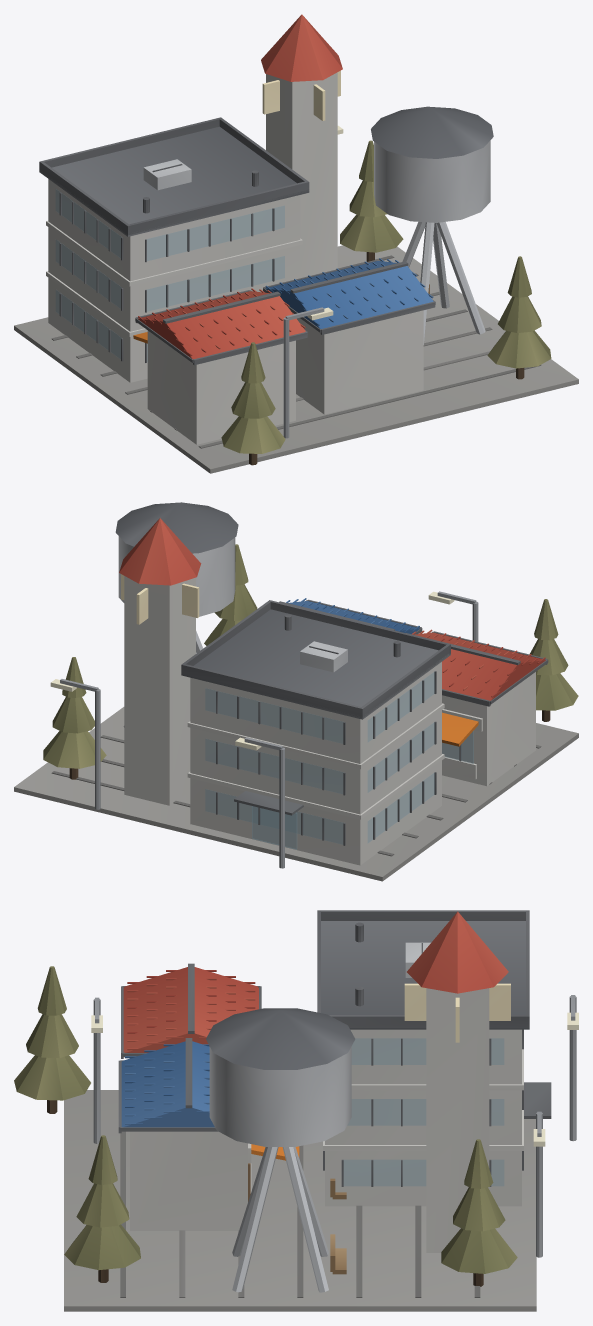
Rendered from Civic_P2.fbx.
3 renders of one model, top to bottom at view 1: azimuth 30°, elevation 25°; view 2: azimuth 150°, elevation 25°; view 3: azimuth 270°, elevation 25°, orthographic. The views are drawn at different scales.
Visible parts, largest first — view 1: Civic.Hall, Civic.Plaza, Civic.Shop1, Civic.Shop0, Civic.WaterTower, Civic.Tower, Civic.Tree2, Civic.Tree1, Civic.Tree0, Civic.Paving, Civic.Lamp0; view 2: Civic.Hall, Civic.Tower, Civic.Plaza, Civic.Shop0, Civic.WaterTower, Civic.Tree0, Civic.Tree2, Civic.Tree1, Civic.Shop1, Civic.Lamp1, Civic.Lamp2, Civic.Paving (+1 smaller); view 3: Civic.Plaza, Civic.Hall, Civic.WaterTower, Civic.Tower, Civic.Shop1, Civic.Shop0, Civic.Tree2, Civic.Tree0, Civic.Tree1, Civic.Paving, Civic.Lamp0, Civic.Lamp2 (+2 smaller).
Boxes of the visible parts, left/top/right/bottom form: Civic.Hall: left=39, top=117, right=309, bottom=382; Civic.Plaza: left=14, top=245, right=578, bottom=473; Civic.Shop1: left=263, top=258, right=435, bottom=414; Civic.Shop0: left=133, top=288, right=307, bottom=444; Civic.WaterTower: left=371, top=106, right=493, bottom=344; Civic.Tower: left=261, top=14, right=342, bottom=278; Civic.Tree2: left=221, top=342, right=285, bottom=465; Civic.Tree1: left=487, top=256, right=551, bottom=379; Civic.Tree0: left=340, top=140, right=403, bottom=261; Civic.Paving: left=51, top=255, right=541, bottom=448; Civic.Lamp0: left=283, top=307, right=333, bottom=438; Civic.Hall: left=181, top=600, right=450, bottom=865; Civic.Tower: left=119, top=518, right=201, bottom=805; Civic.Plaza: left=14, top=707, right=578, bottom=881; Civic.Shop0: left=406, top=629, right=548, bottom=786; Civic.WaterTower: left=115, top=502, right=238, bottom=727; Civic.Tree0: left=43, top=657, right=106, bottom=779; Civic.Tree2: left=530, top=599, right=578, bottom=721; Civic.Tree1: left=204, top=544, right=257, bottom=645; Civic.Shop1: left=279, top=598, right=422, bottom=634; Civic.Lamp1: left=50, top=679, right=100, bottom=809; Civic.Lamp2: left=235, top=737, right=284, bottom=868; Civic.Paving: left=51, top=735, right=541, bottom=856; Civic.Plaza: left=64, top=1090, right=536, bottom=1311; Civic.Hall: left=317, top=910, right=551, bottom=1206; Civic.WaterTower: left=206, top=1008, right=355, bottom=1292; Civic.Tower: left=404, top=911, right=510, bottom=1252; Civic.Shop1: left=118, top=1038, right=299, bottom=1230; Civic.Shop0: left=121, top=963, right=261, bottom=1058; Civic.Tree2: left=14, top=966, right=90, bottom=1113; Civic.Tree0: left=441, top=1139, right=517, bottom=1286; Civic.Tree1: left=64, top=1135, right=140, bottom=1282; Civic.Paving: left=120, top=1131, right=480, bottom=1297; Civic.Lamp0: left=91, top=997, right=102, bottom=1143; Civic.Lamp2: left=567, top=995, right=578, bottom=1141.
Bounding box in the file's own units: 2600 × 1871 × 2870.
